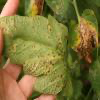Tomato Septoria leaf spot: (0, 15, 73, 99), (72, 9, 99, 62)
